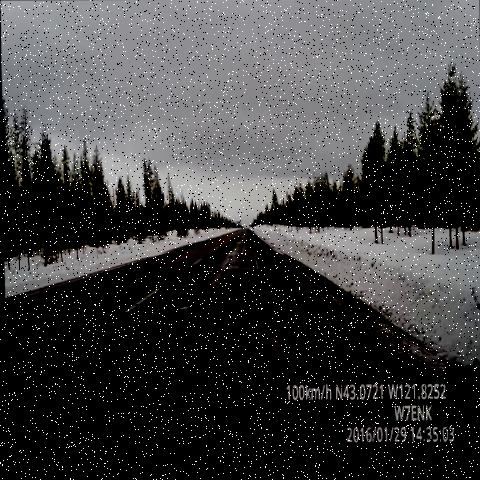pothole: (253, 323, 288, 373), (174, 282, 197, 322), (223, 226, 249, 260), (200, 254, 222, 283)
